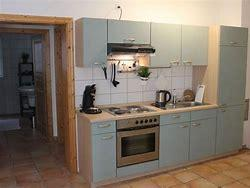cabinet_door: (219, 26, 246, 104), (151, 24, 180, 67), (83, 18, 107, 67), (181, 25, 208, 65), (107, 20, 151, 44), (159, 126, 187, 163), (218, 109, 242, 151), (94, 135, 116, 180), (192, 119, 215, 155), (221, 1, 239, 25), (92, 122, 115, 133), (161, 113, 189, 122), (192, 111, 216, 120)
handle: (119, 128, 158, 138), (97, 121, 111, 129), (121, 36, 136, 43), (169, 114, 182, 120), (101, 135, 114, 141), (167, 59, 179, 65), (177, 124, 188, 130), (218, 101, 229, 107), (93, 61, 106, 66), (191, 122, 201, 128), (182, 59, 192, 65), (218, 109, 228, 115), (230, 41, 240, 45)
